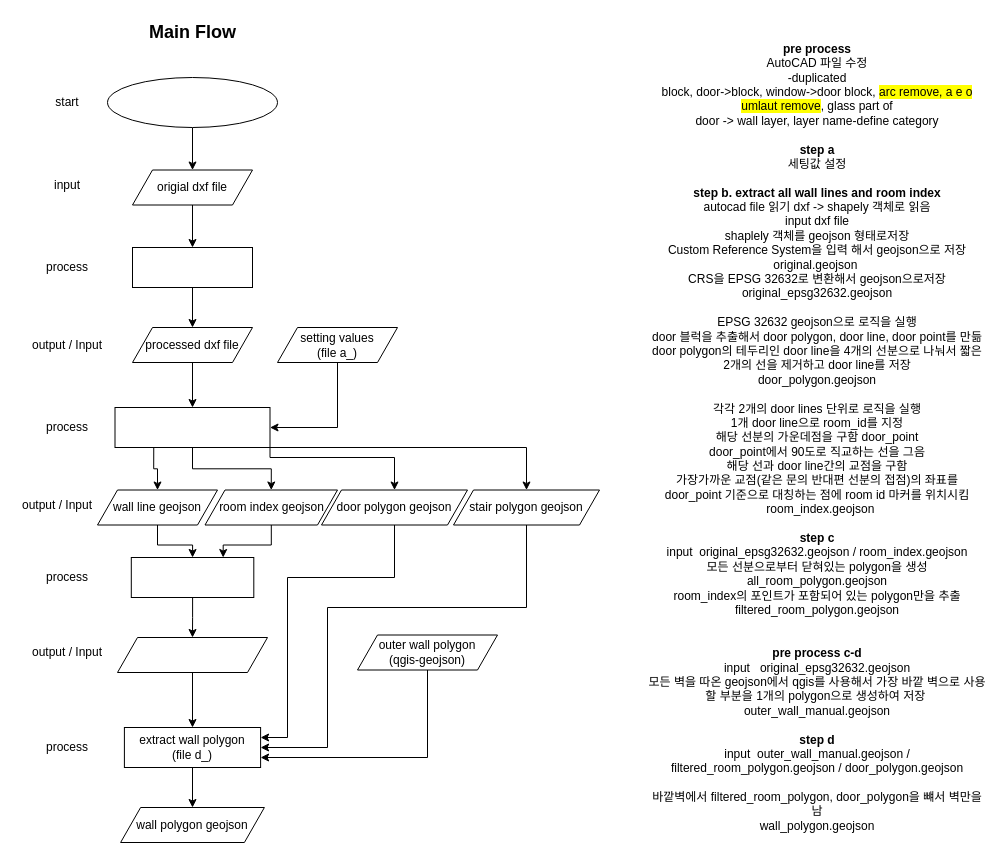
This 1004x864 diagram has some shape labels left out. The box of each missing label's shape, as (x1, y1, x2, y2) in pixels:
Creating Floor plan geojson: (106, 76, 278, 128)
extract features from dxf file (file b_): (114, 406, 270, 448)
extract room polygon (file c_): (130, 556, 254, 598)
Pre-processing of dxf: (132, 246, 252, 288)
room polygon geojson: (116, 636, 268, 672)
